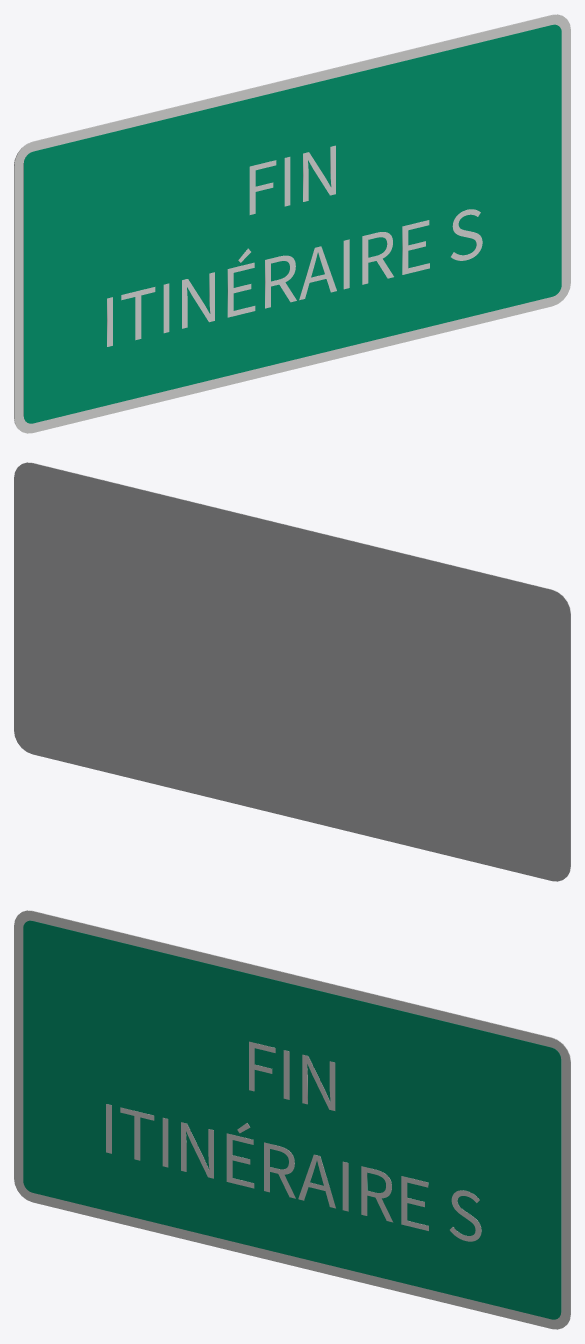
The picture shows the model from 3 angles, top to bottom: view 1: azimuth 30°, elevation 25°; view 2: azimuth 150°, elevation 25°; view 3: azimuth 330°, elevation 25°; orthographic projection.
Parts seen in each view (by area): view 1: D69a_fond01, D69a_cadre00, D69a_txt03, D69a_txt02, D69a_dos; view 2: D69a_dos; view 3: D69a_fond01, D69a_cadre00, D69a_txt03, D69a_txt02, D69a_dos.
Boxes of the visible parts, x1=… form: D69a_fond01: x1=23, y1=24, x2=561, y2=423; D69a_cadre00: x1=14, y1=14, x2=570, y2=433; D69a_txt03: x1=107, y1=209, x2=482, y2=346; D69a_txt02: x1=249, y1=145, x2=335, y2=214; D69a_dos: x1=14, y1=14, x2=562, y2=426; D69a_dos: x1=14, y1=462, x2=570, y2=881; D69a_fond01: x1=23, y1=920, x2=561, y2=1319; D69a_cadre00: x1=14, y1=910, x2=570, y2=1329; D69a_txt03: x1=106, y1=1104, x2=481, y2=1241; D69a_txt02: x1=249, y1=1041, x2=335, y2=1110; D69a_dos: x1=22, y1=910, x2=570, y2=1322.
Size of the model in its own units: 1.2 by 0.6 by 0.0029.
